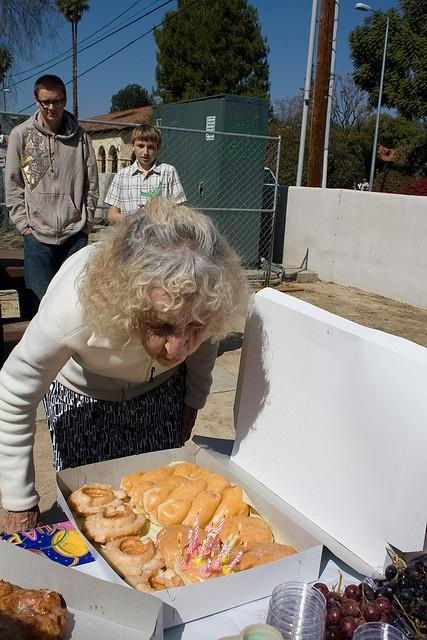grape: (326, 606, 344, 626), (342, 616, 358, 636), (345, 584, 362, 602), (374, 597, 392, 614), (357, 582, 374, 600), (325, 592, 342, 610), (404, 566, 423, 582), (364, 603, 380, 621), (326, 626, 346, 640), (383, 581, 399, 598), (398, 588, 416, 602), (414, 560, 426, 580), (313, 582, 329, 596), (374, 586, 388, 600), (385, 564, 397, 580), (418, 602, 427, 622), (398, 601, 411, 613), (398, 578, 410, 590), (414, 588, 427, 598), (402, 616, 412, 626), (407, 586, 416, 594), (418, 582, 426, 589)
